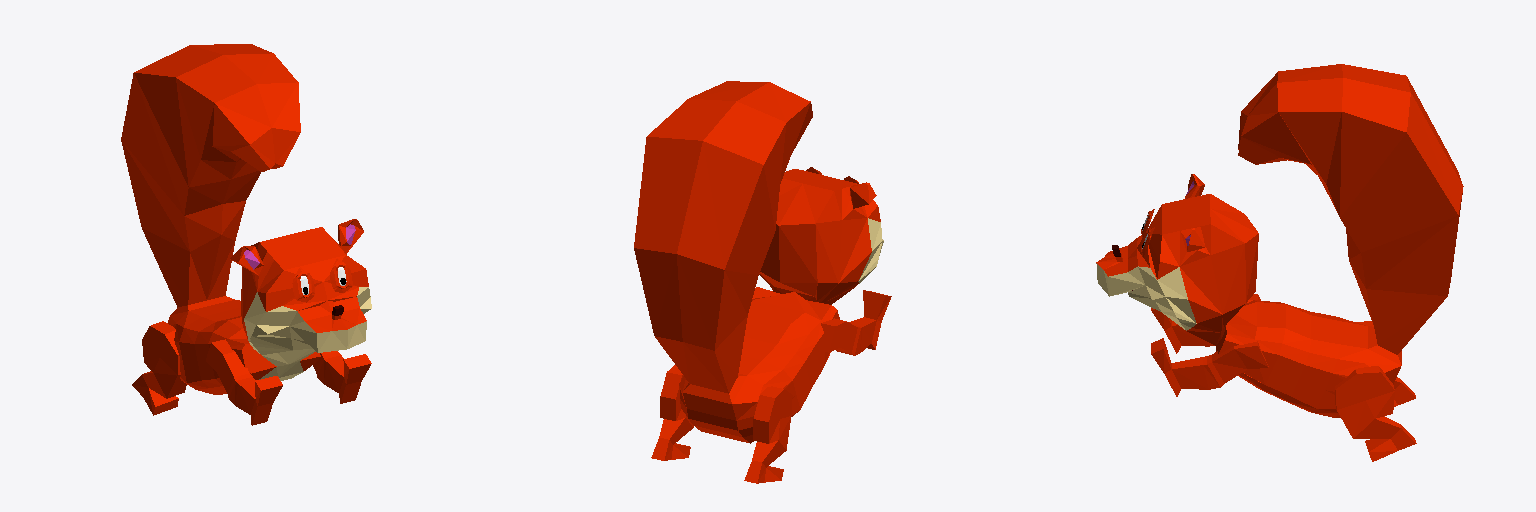
File: swm.obj
The picture shows the model from 3 angles: view 1: azimuth 30°, elevation 25°; view 2: azimuth 150°, elevation 25°; view 3: azimuth 270°, elevation 25°; orthographic projection.
Parts seen in each view (by area): view 1: Cube_Material, Cube_Material.0012, Cube.004_Material.007, Cube.002_Material.006, Cube.001_Material.0062; view 2: Cube_Material, Cube.004_Material.007, Cube.002_Material.006, Cube.003_Material.0072, Cube_Material.0012; view 3: Cube_Material, Cube.003_Material.0072, Cube.001_Material.0062, Cube_Material.0012, Cube.002_Material.006.
Boxes of the visible parts, x1,y1,x2,y2 form: Cube_Material: [121, 44, 368, 394]; Cube_Material.0012: [244, 287, 371, 380]; Cube.004_Material.007: [132, 321, 186, 415]; Cube.002_Material.006: [206, 339, 282, 425]; Cube.001_Material.0062: [313, 351, 371, 403]; Cube_Material: [634, 81, 880, 443]; Cube.004_Material.007: [744, 386, 792, 483]; Cube.002_Material.006: [821, 290, 891, 355]; Cube.003_Material.0072: [651, 365, 693, 460]; Cube_Material.0012: [858, 218, 883, 283]; Cube_Material: [1096, 64, 1463, 417]; Cube.003_Material.0072: [1335, 366, 1416, 461]; Cube.001_Material.0062: [1151, 338, 1268, 396]; Cube_Material.0012: [1096, 263, 1196, 330]; Cube.002_Material.006: [1151, 294, 1260, 353].
Bounding box in the file's own units: 2.6 × 6.92 × 6.47.